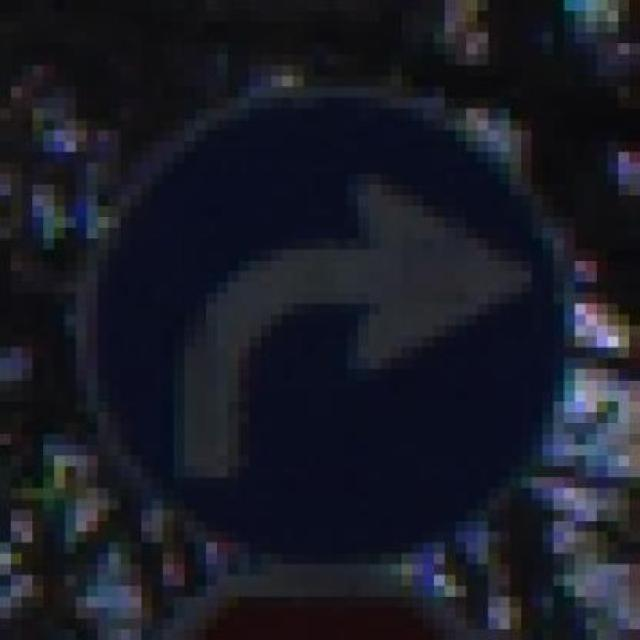Turn right ahead: (76, 64, 586, 564)
